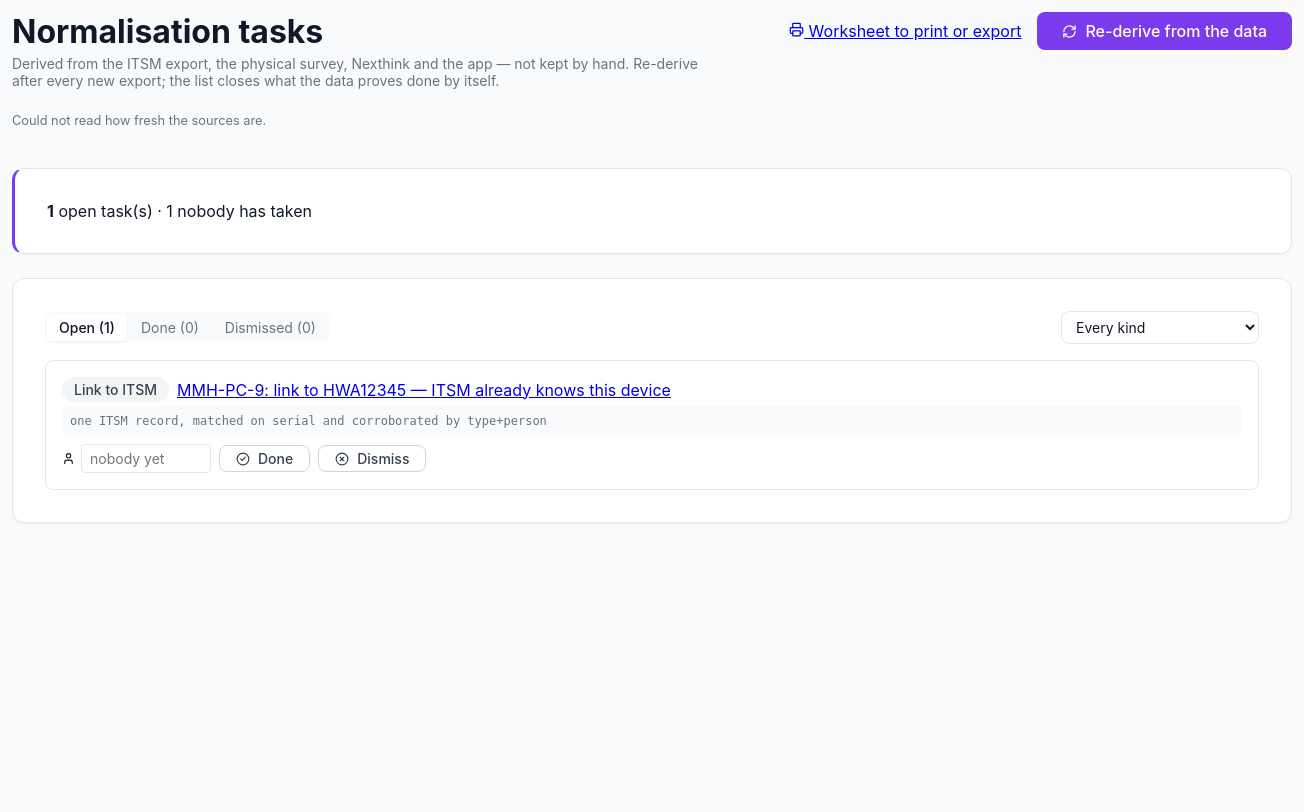
Test: NormalisationTasks › repeats the server’s warning instead of claiming success
Step 1. Click the button "Done" → (265,458), box [219,445,310,472]
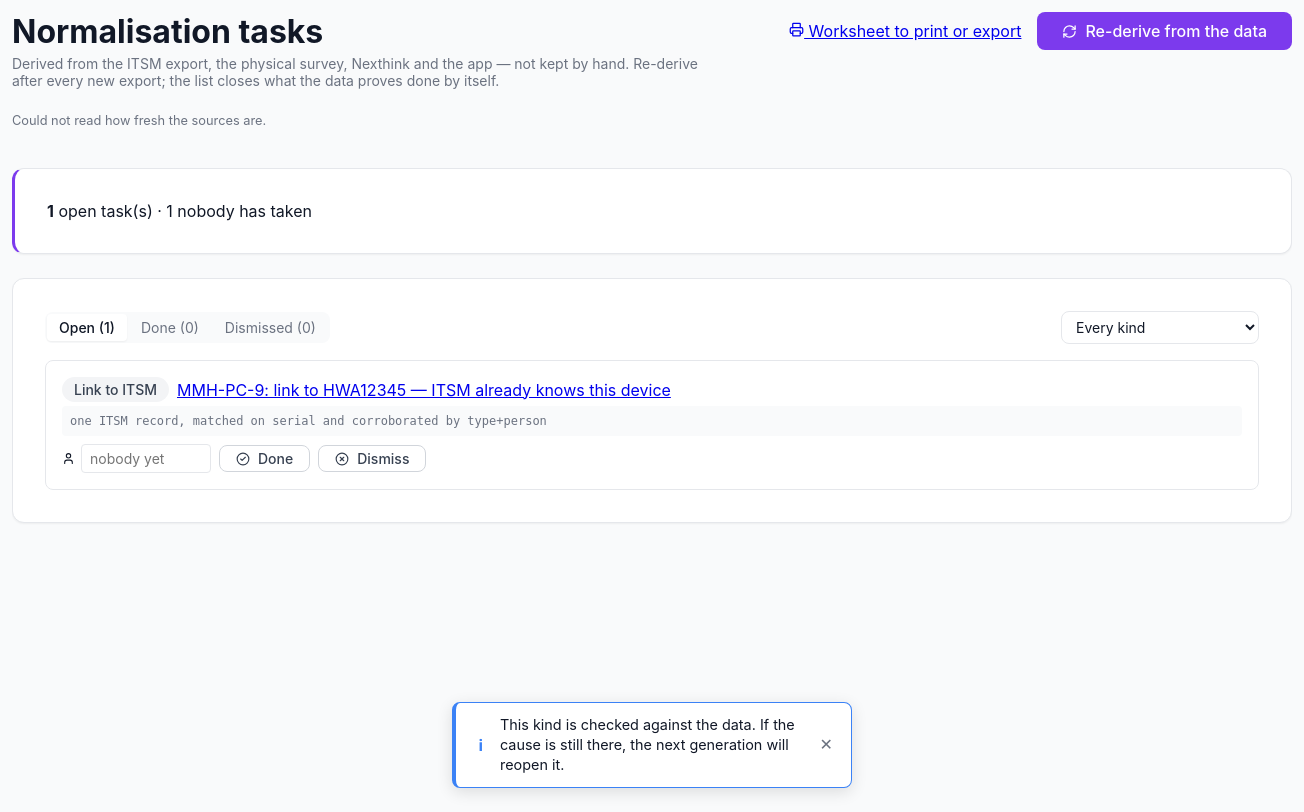
Expected: the text "will reopen it" is shown, [500,716,795,773]
